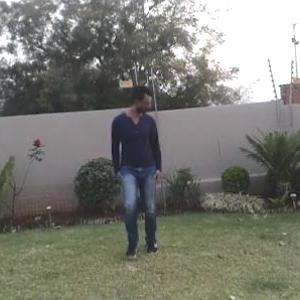follow: (111, 80, 170, 270)
